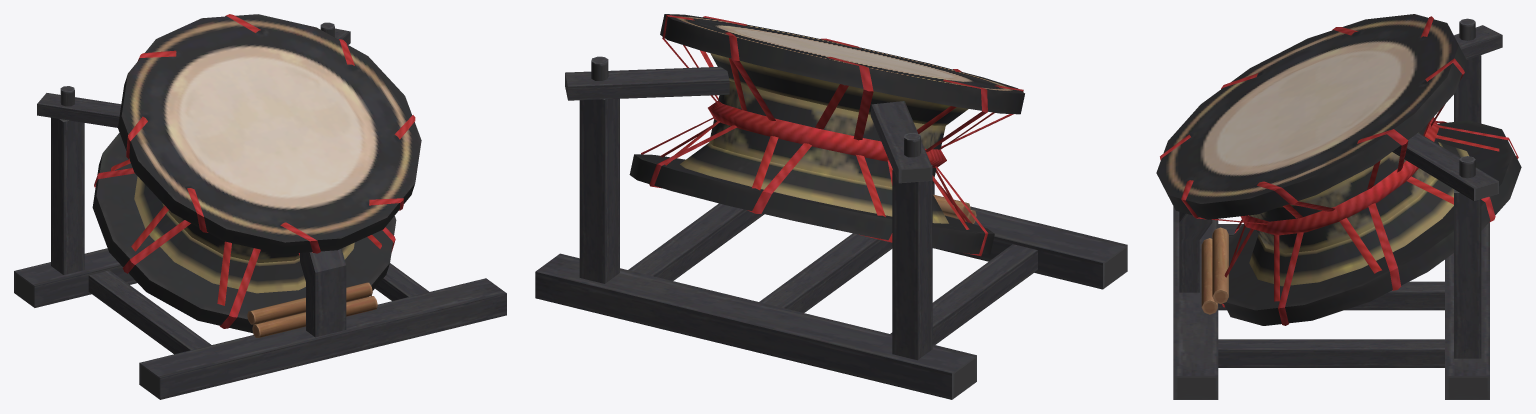
Rendered from Homeworld_Interior_Dq_Decoration_Drum_02_Vo.fbx.
3 renders of one model, left to right at view 1: azimuth 30°, elevation 25°; view 2: azimuth 150°, elevation 25°; view 3: azimuth 270°, elevation 25°, orthographic. The views are drawn at different scales.
Visible parts, largest first — view 1: Indoor_Dq_Prop_Comp_Drum_02_Vo; view 2: Indoor_Dq_Prop_Comp_Drum_02_Vo; view 3: Indoor_Dq_Prop_Comp_Drum_02_Vo.
Part boxes in pixels (box(x1,y1,x2,y2)): Indoor_Dq_Prop_Comp_Drum_02_Vo: box(14, 14, 506, 399); Indoor_Dq_Prop_Comp_Drum_02_Vo: box(535, 14, 1127, 399); Indoor_Dq_Prop_Comp_Drum_02_Vo: box(1156, 14, 1521, 399).
Size of the model in its own units: 1.02 by 0.6831 by 0.8591.
